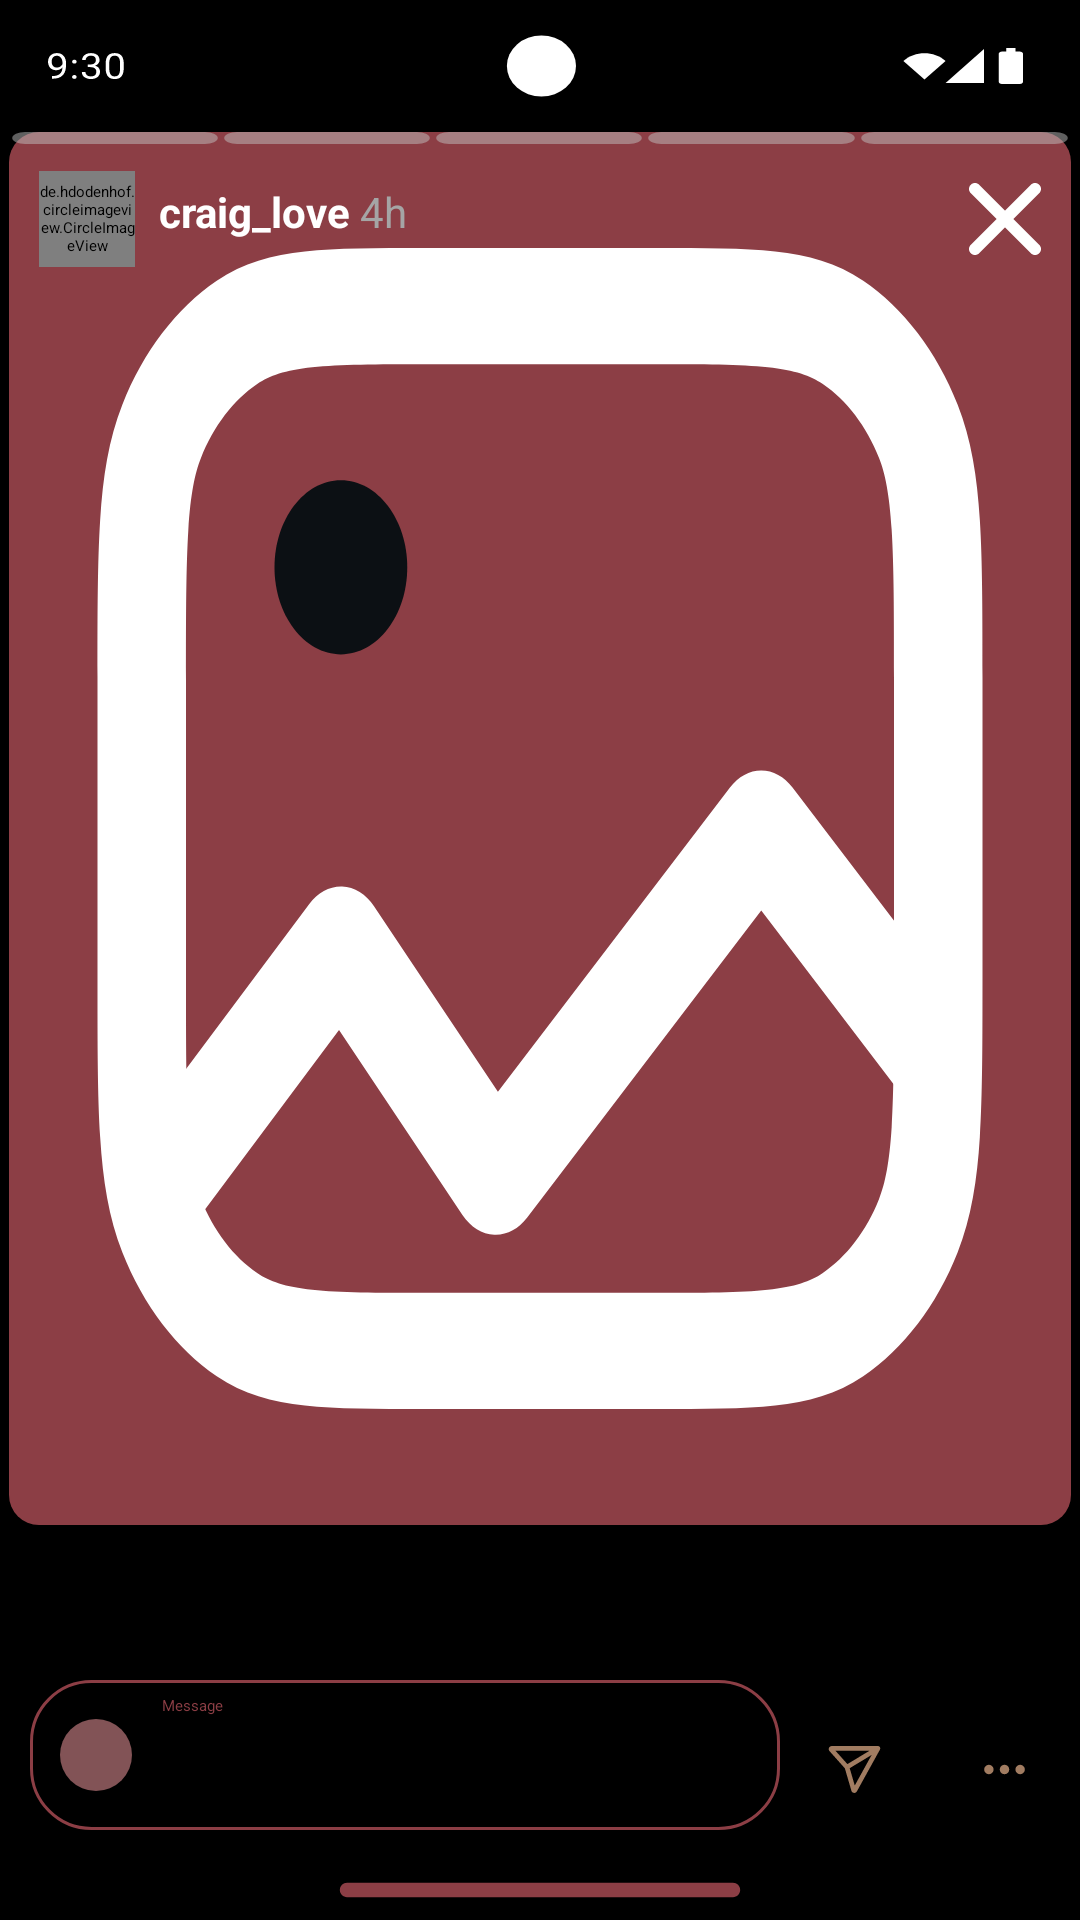

Screen size 1080w x 1920h. Icon name, then its box in pixels as box=[x1, y1, x2, y2]:
close: box=[969, 183, 1041, 255]
options brown: box=[984, 1764, 1025, 1775]
share brown: box=[828, 1746, 881, 1793]
